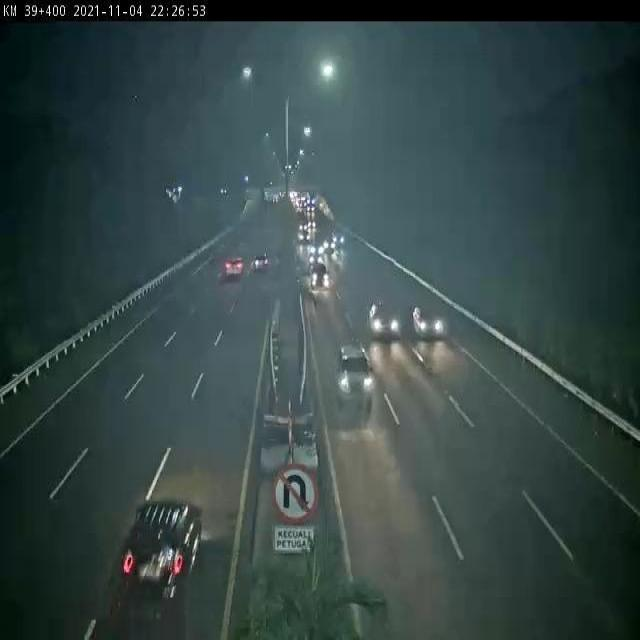car: (112, 489, 218, 615), (329, 338, 376, 411), (363, 293, 403, 347), (413, 293, 449, 344), (305, 260, 334, 293), (216, 254, 249, 282), (248, 247, 269, 280)
